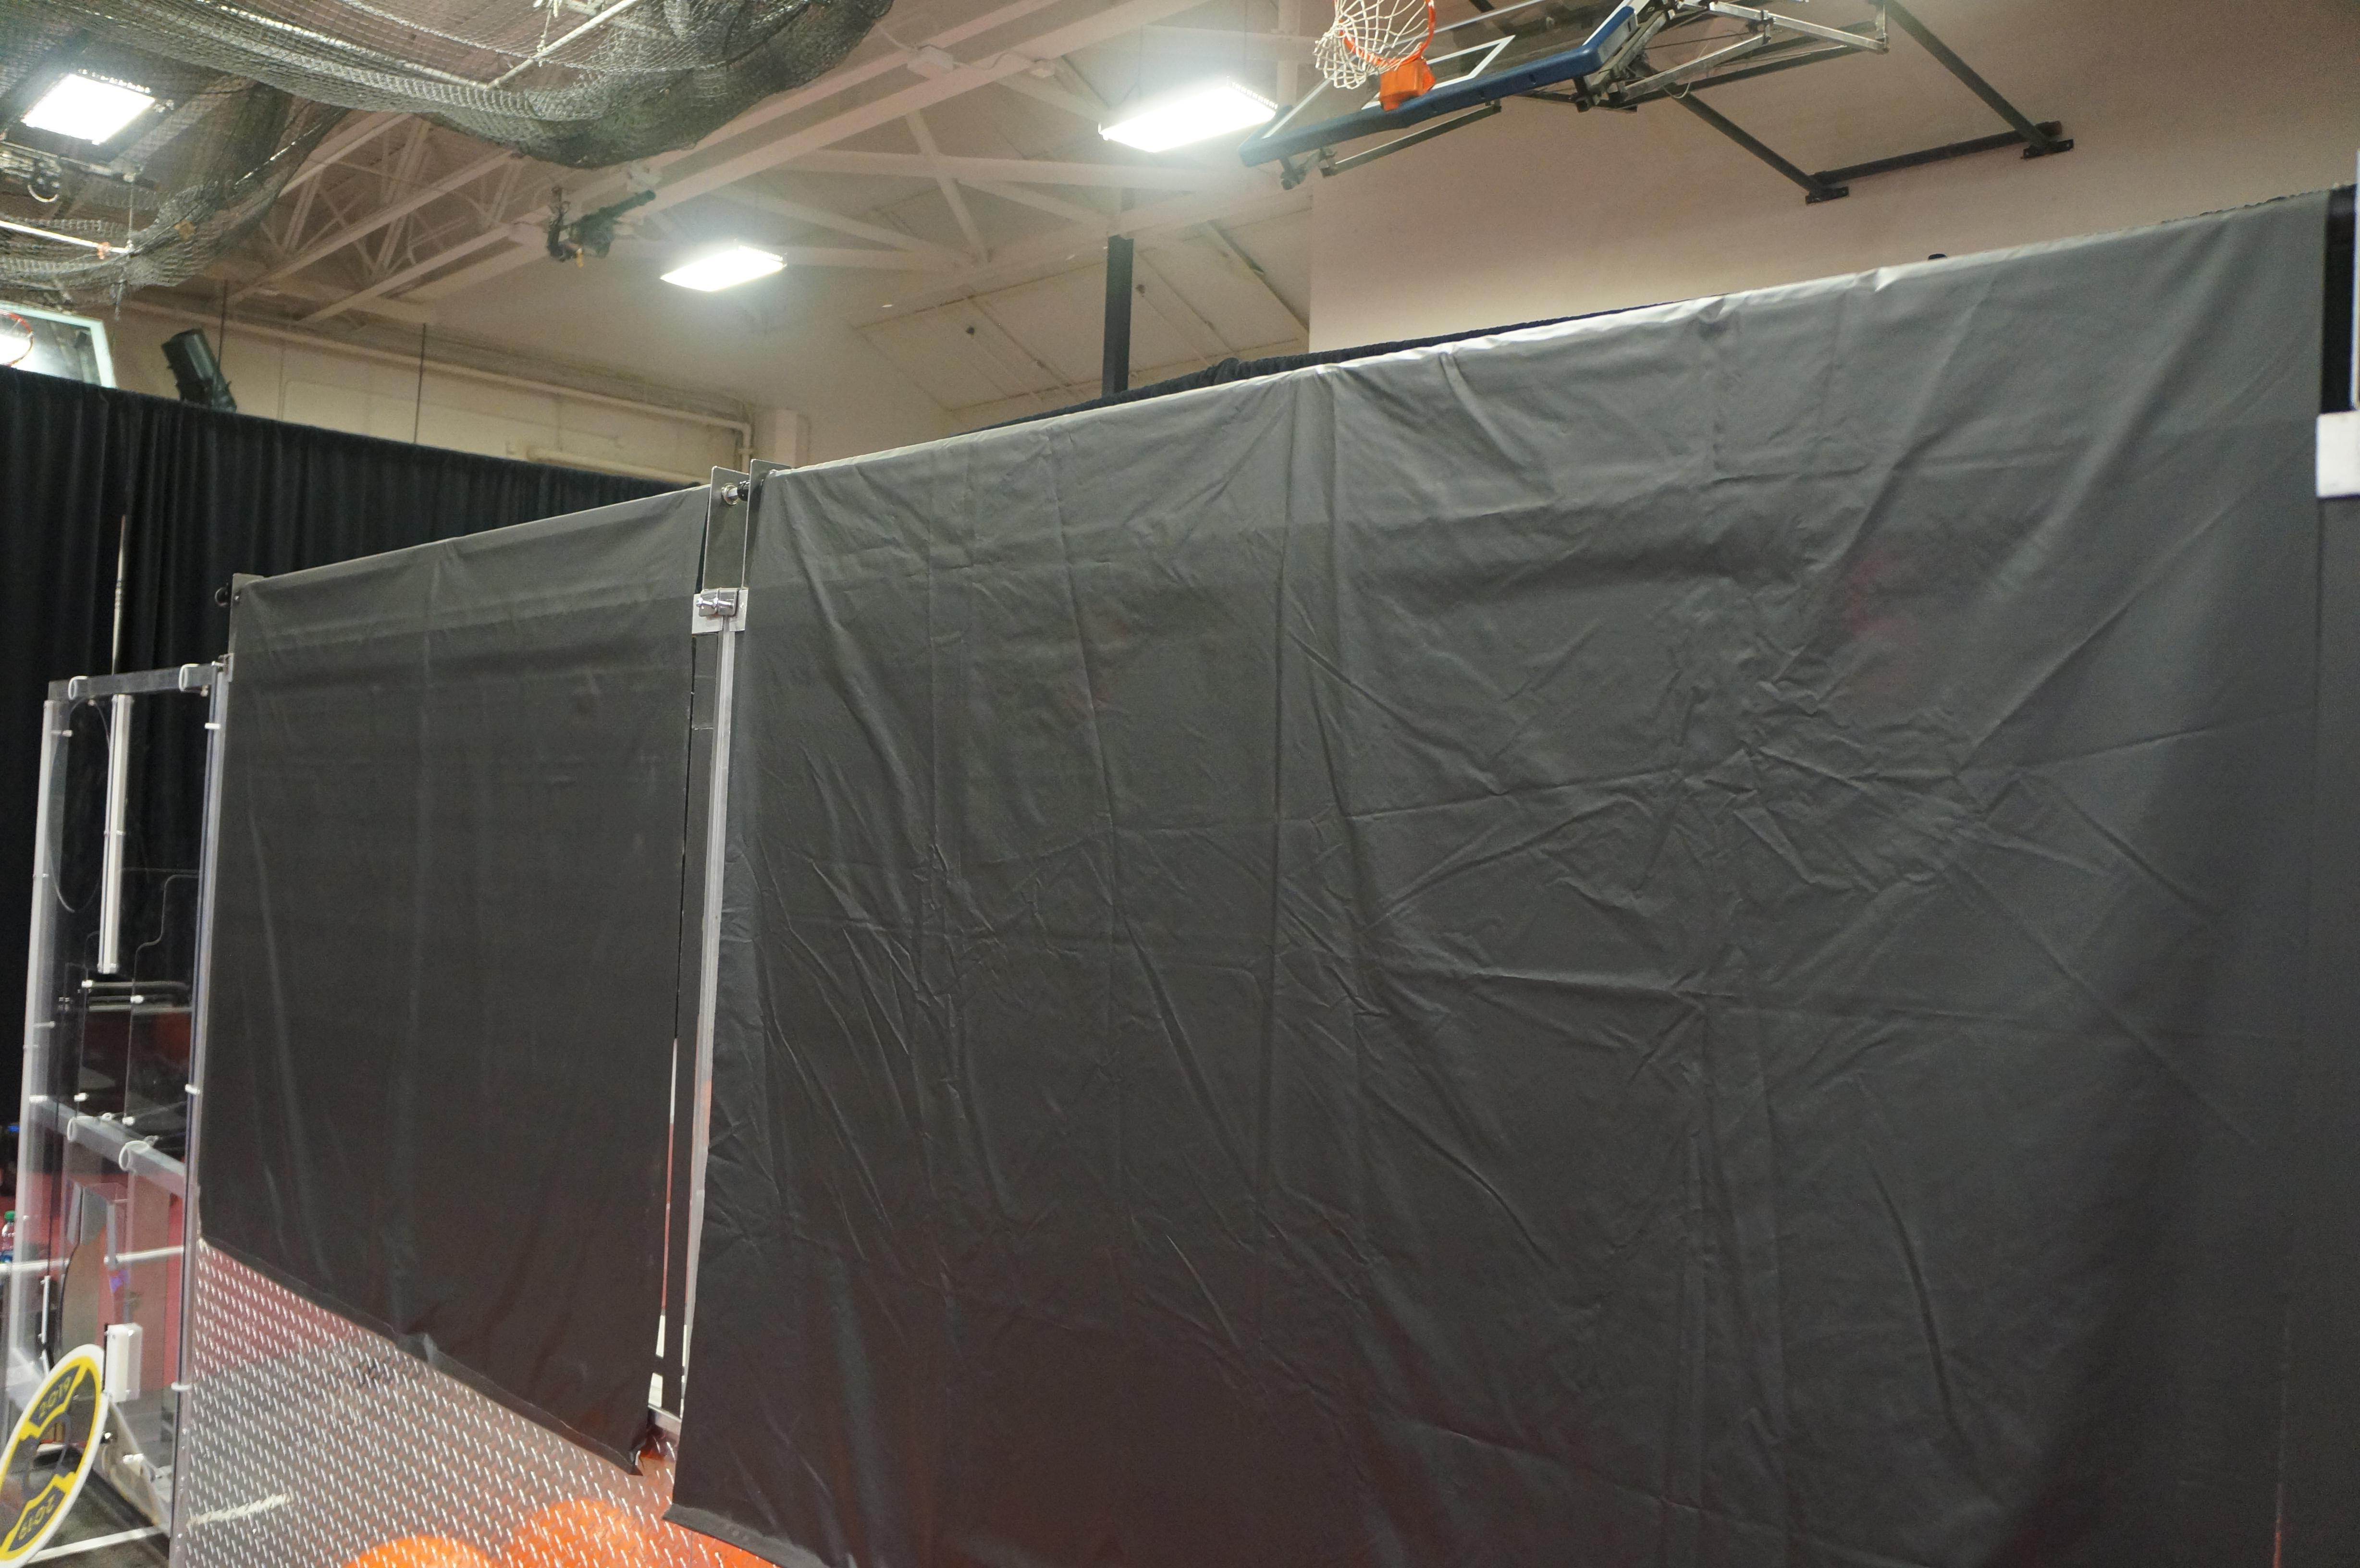Hatch: (0, 1339, 119, 1568)
Tape: (65, 1179, 87, 1253), (101, 1199, 121, 1281)
